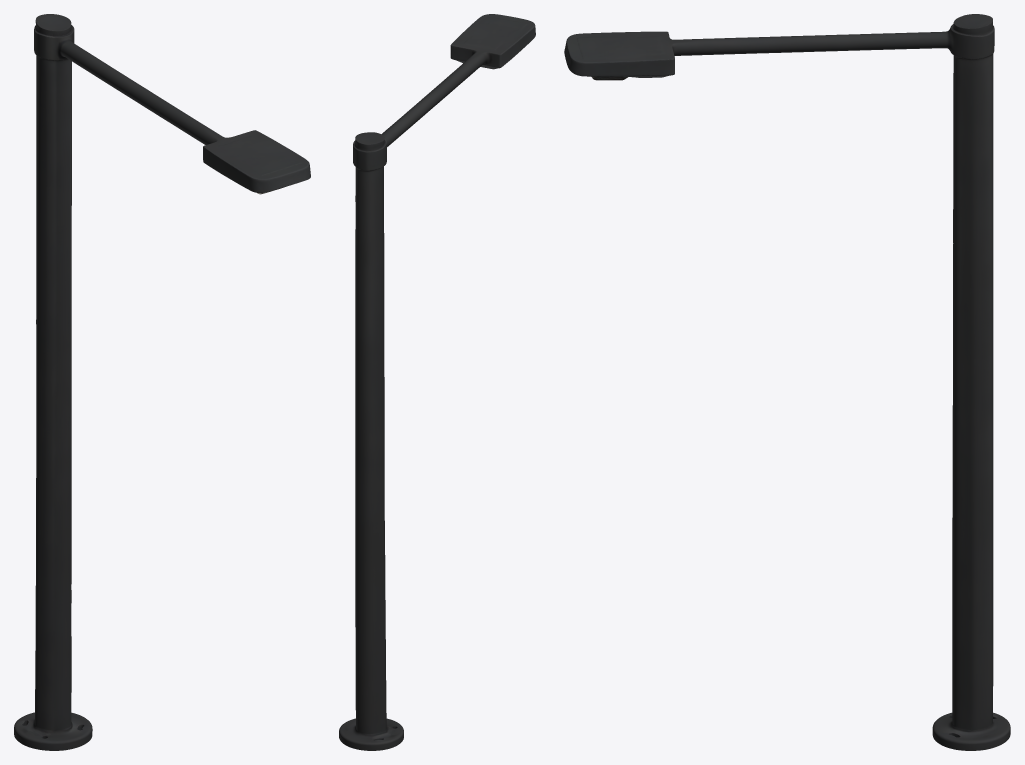
The model's file is decor-lampadaire.glb.
The picture shows the model from 3 angles, left to right: view 1: azimuth 30°, elevation 25°; view 2: azimuth 150°, elevation 25°; view 3: azimuth 270°, elevation 25°; orthographic projection. The views are drawn at different scales.
Parts seen in each view (by area): view 1: model; view 2: model; view 3: model.
Part boxes in pixels (<box>): model: <box>14,14,310,750</box>; model: <box>339,14,535,750</box>; model: <box>564,14,1010,750</box>.
Bounding box in the file's own units: 0.2673 × 1.9 × 1.07.
1 material, 1 textured.
